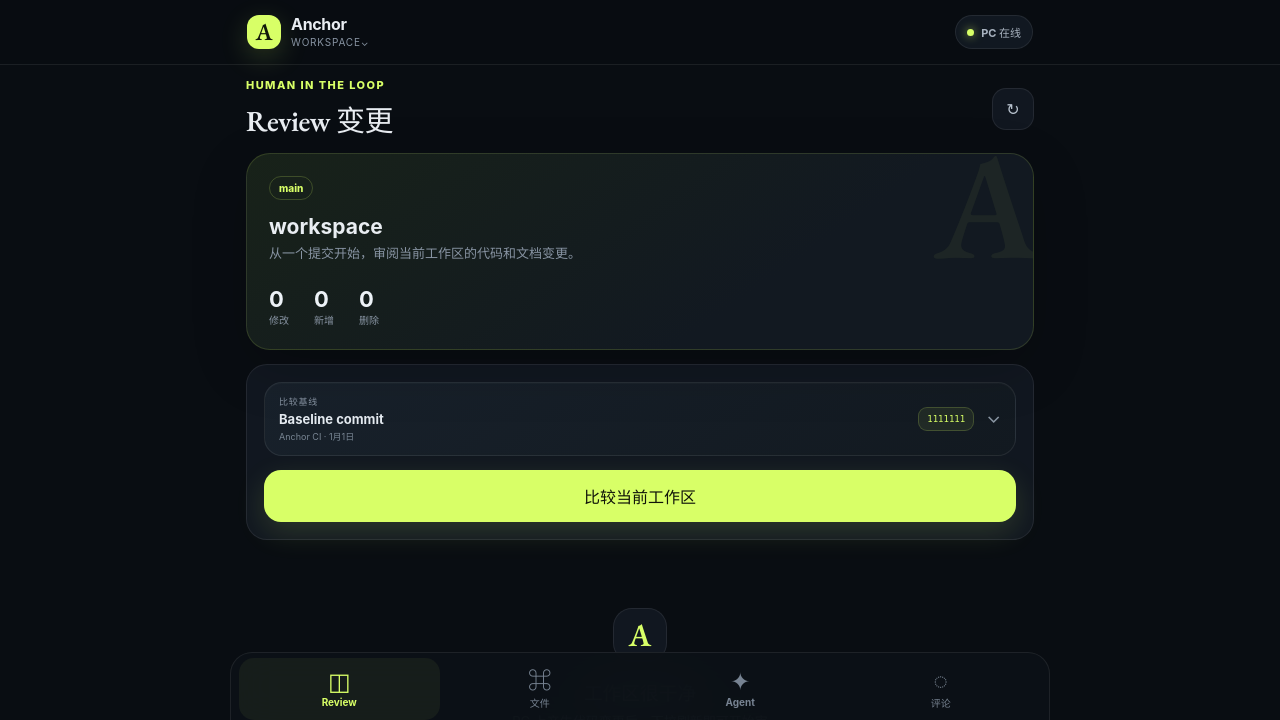
Test case: mobile Agent baseline › saves a selected Review line through the comment API
The width and height of the screenshot is (1280, 720).
expect the heading "Review 变更" is shown: met, box [246,97,393,140]
Click the button "比较当前工作区": (640, 496) [264,470,1016,522]
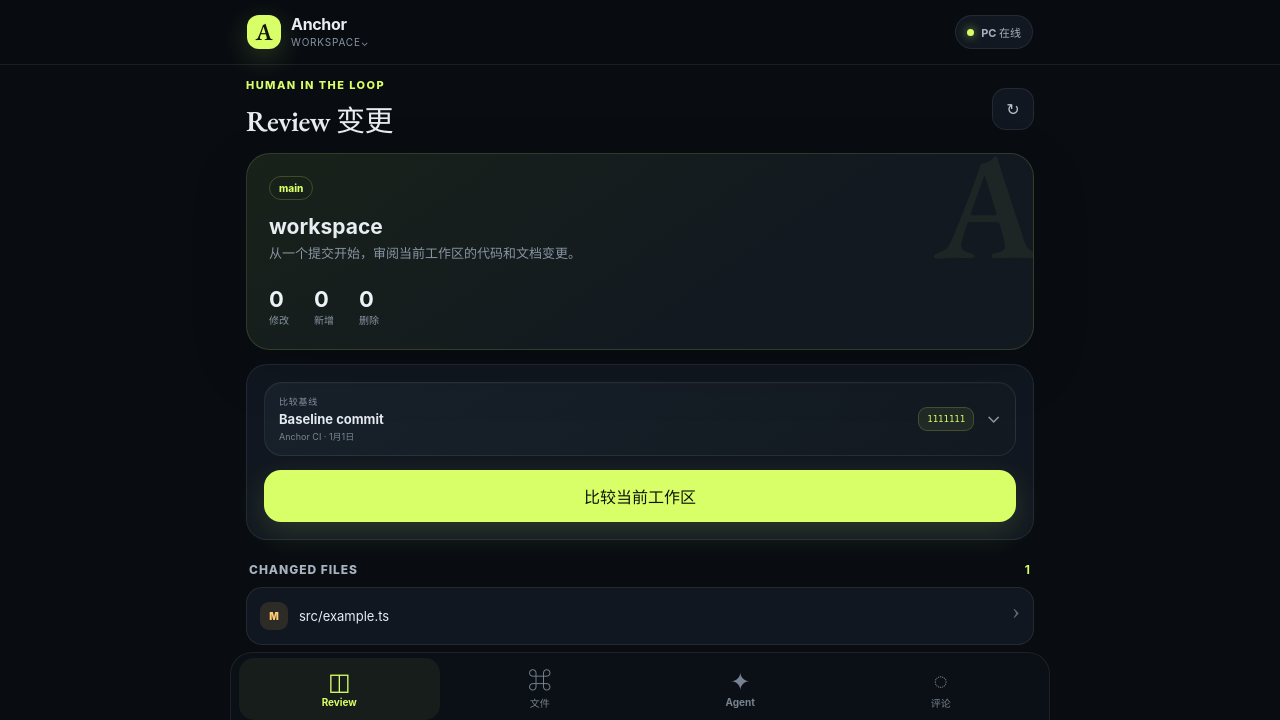
Click the button "M src/example.ts ‹": (344, 616) [246,586,1034,644]
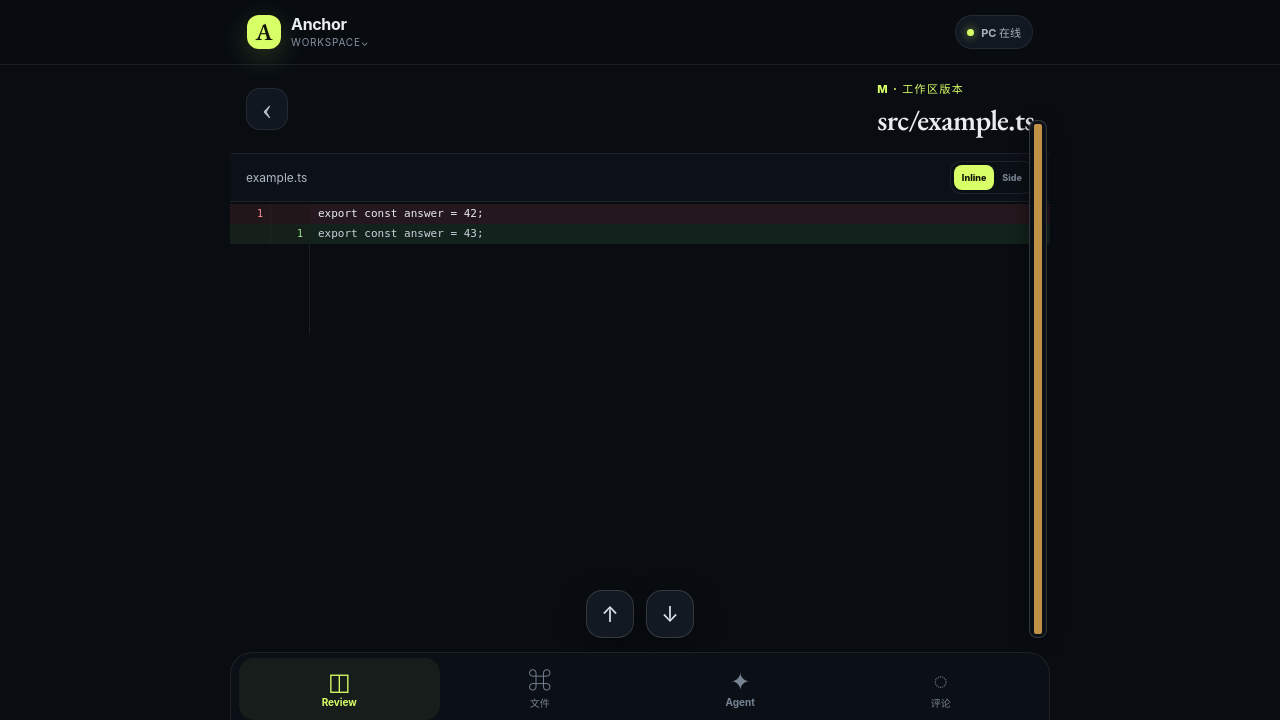
expect the button with class "is-added" showing "export const answer = 43;" is shown: met
Click the button with class "is-added" showing "export const answer = 43;": (401, 234) [310,224,1050,244]
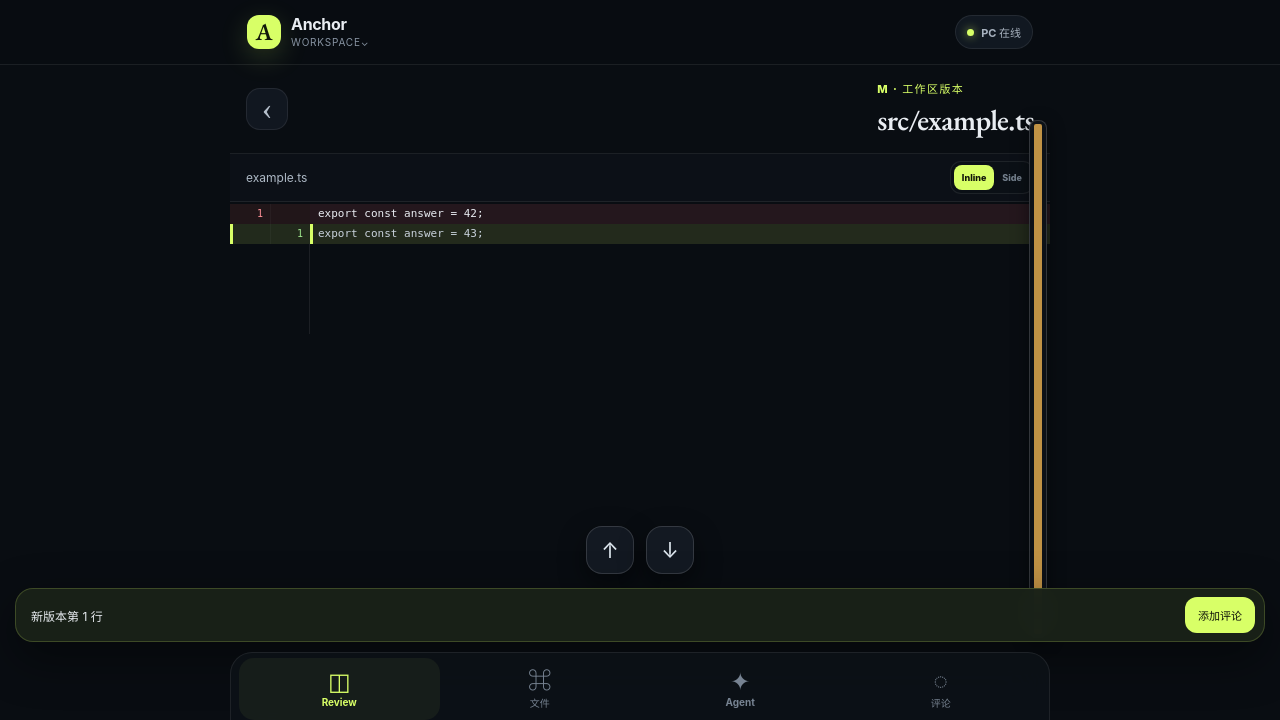
Click the button "添加评论": (1220, 615) [1185,597,1255,633]
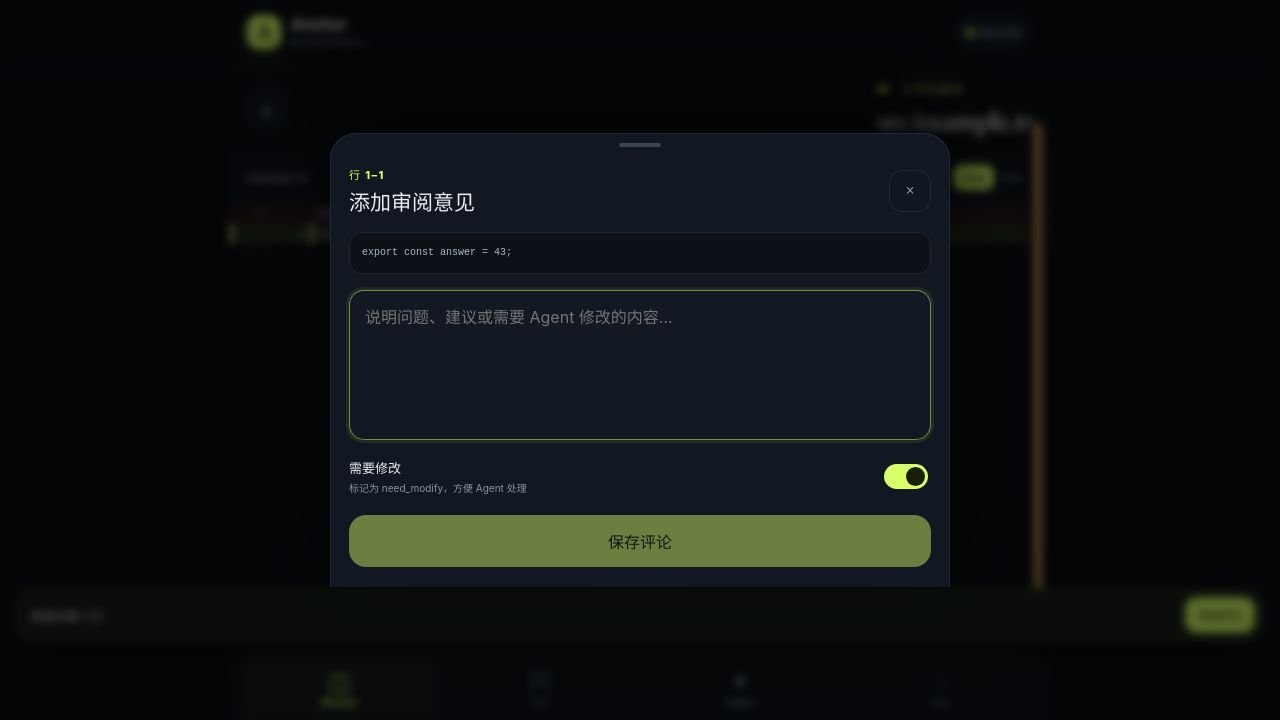
In the text box with placeholder "说明问题、建议或需要 Agent 修改的内容…": (640, 365) [349,290,931,440], type "Please keep the baseline behavior"
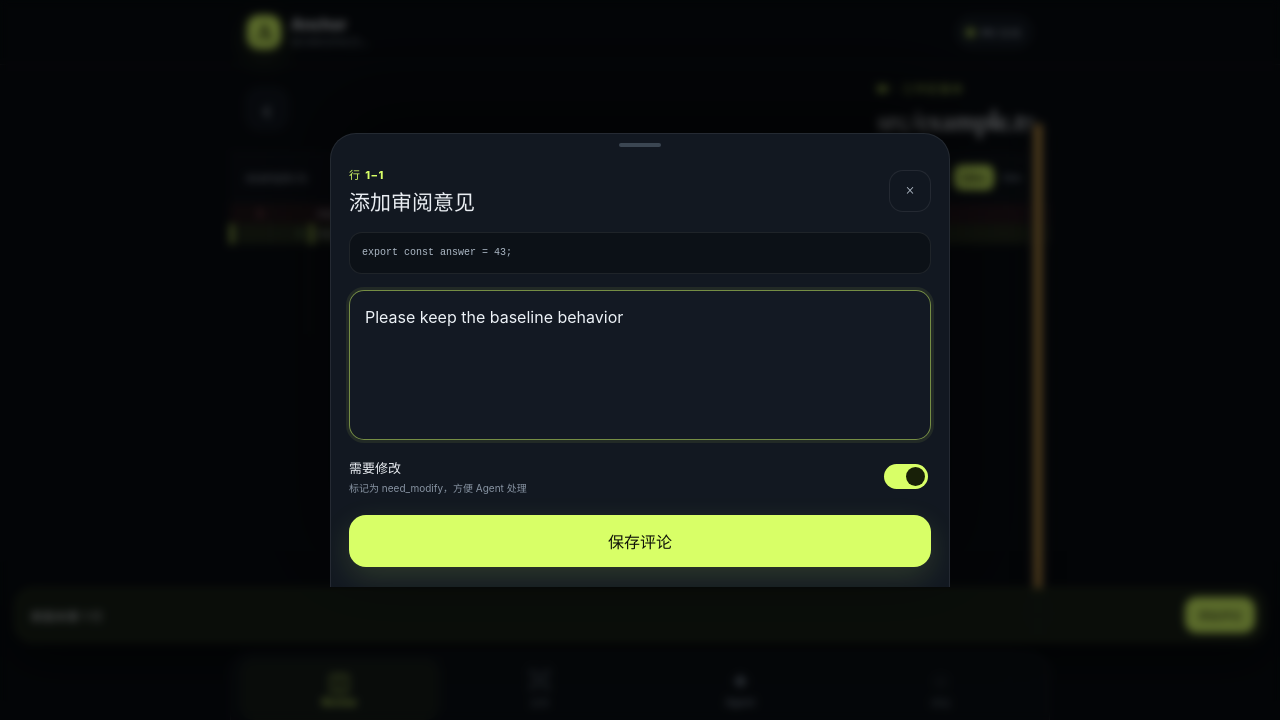
Click the button "保存评论": (640, 541) [349,515,931,567]
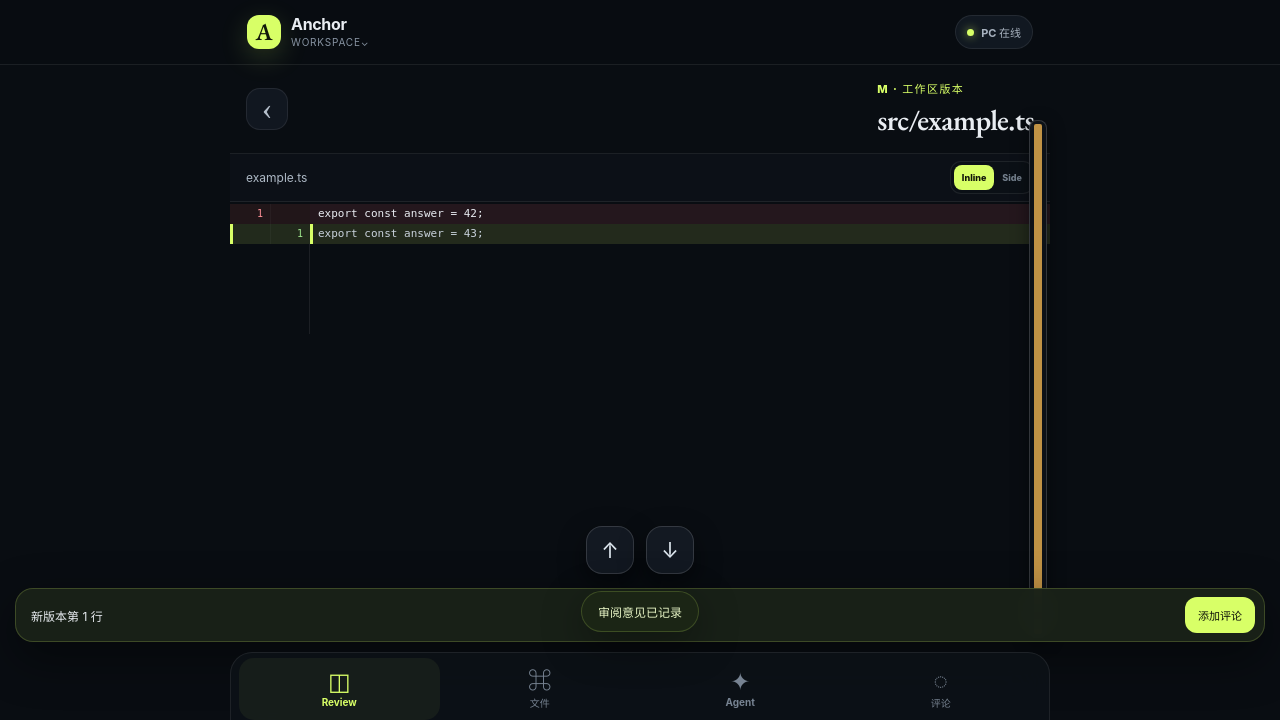
expect the text "审阅意见已记录" is shown: met, box [581,591,699,632]
